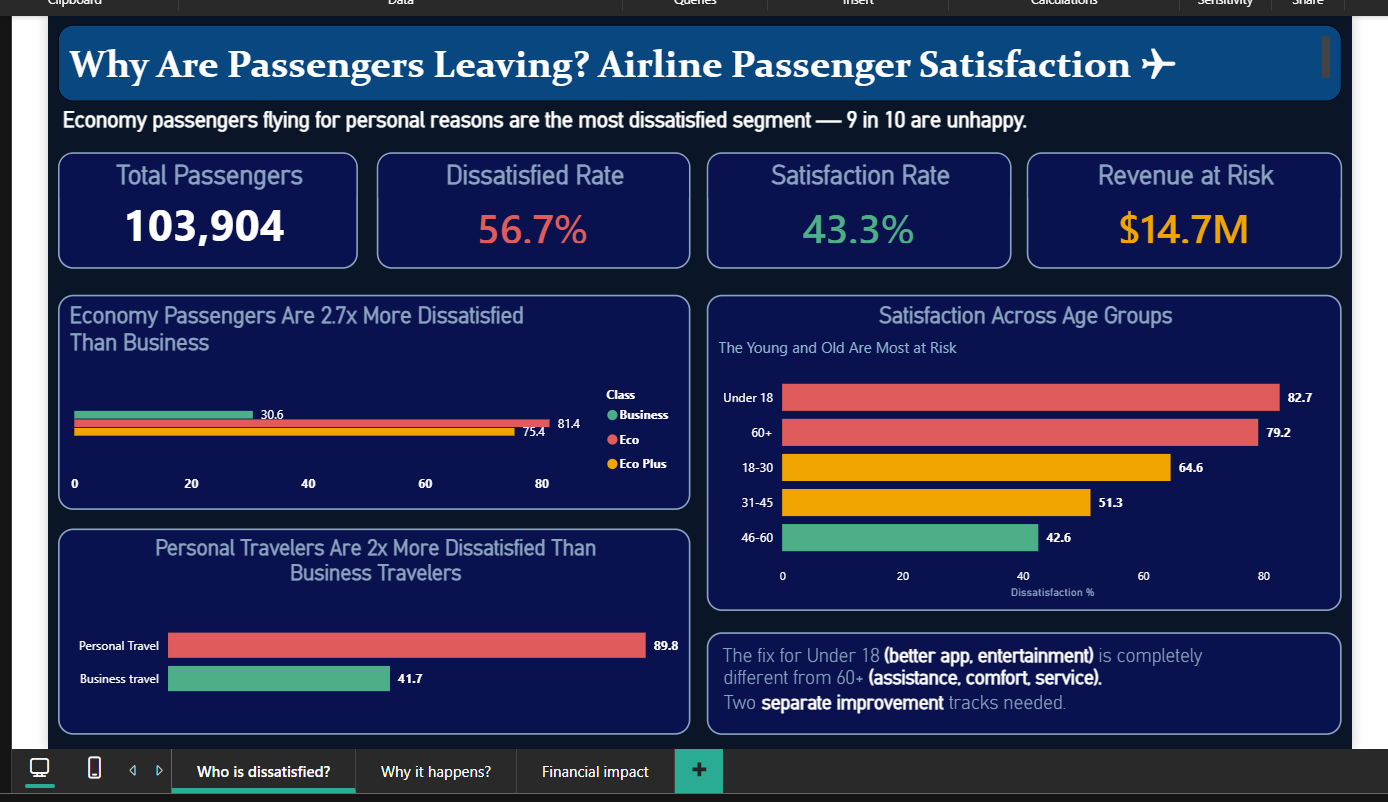

Layout of this report page (visuals, bound fields, positions):
{"tool":"powerbi","page":{"name":"Who is dissatisfied?","canvas":[1280,720],"ordinal":0},"visuals":[{"type":"textbox","box":[9.8,8.6,1260.1,74.8],"z":0},{"type":"cardVisual","title":"Total Passengers","fields":{"Data":["cleaned_data.Total Passengers"]},"box":[9.8,133.7,294.5,114.1],"z":1000},{"type":"clusteredBarChart","title":"Economy Passengers Are 2.7x More Dissatisfied Than Business","fields":{"Series":["cleaned_data.Class"],"Y":["cleaned_data.Dissatisfaction %"]},"box":[9.8,273.6,620.9,211],"z":2000},{"type":"clusteredBarChart","title":"Personal Travelers Are 2x More Dissatisfied     Than Business Travelers","fields":{"Y":["cleaned_data.Dissatisfaction %"],"Category":["cleaned_data.Type of Travel"]},"box":[9.8,503.1,620.9,202.5],"z":3000},{"type":"barChart","title":"Satisfaction Across Age Groups","fields":{"Category":["cleaned_data.age_group"],"Y":["cleaned_data.Dissatisfaction %"]},"box":[646.6,273.6,623.3,310.4],"z":4000},{"type":"cardVisual","title":"Dissatisfied Rate","fields":{"Data":["cleaned_data.Dissatisfaction Rate"]},"box":[322.7,133.7,308,114.1],"z":5000},{"type":"textbox","box":[646.6,604.9,623.3,100.6],"z":6000},{"type":"textbox","box":[9.8,66.3,1260.1,67.5],"z":7000},{"type":"cardVisual","title":"Satisfaction Rate","fields":{"Data":["cleaned_data.Satisfaction Rate"]},"box":[646.6,133.7,299.4,114.1],"z":8000},{"type":"cardVisual","title":"Revenue at Risk","fields":{"Data":["cleaned_data.Revenue at Risk"]},"box":[960.7,133.7,309.2,114.1],"z":9000},{"type":"textbox","box":[68.7,169.3,192.6,92],"z":9001}]}

Visuals, with their boxes on the page's 1280x720 design canvas (x1, y1, x2, y2). These are canvas units, not pixel positions in the 1388x802 screenshot, which may show the page scaled, cropped or inside an application window:
textbox: crop(10, 9, 1270, 83)
"Total Passengers" cardVisual: crop(10, 134, 304, 248)
"Economy Passengers Are 2.7x More Dissatisfied Than Business" clusteredBarChart: crop(10, 274, 631, 485)
"Personal Travelers Are 2x More Dissatisfied     Than Business Travelers" clusteredBarChart: crop(10, 503, 631, 706)
"Satisfaction Across Age Groups" barChart: crop(647, 274, 1270, 584)
"Dissatisfied Rate" cardVisual: crop(323, 134, 631, 248)
textbox: crop(647, 605, 1270, 706)
textbox: crop(10, 66, 1270, 134)
"Satisfaction Rate" cardVisual: crop(647, 134, 946, 248)
"Revenue at Risk" cardVisual: crop(961, 134, 1270, 248)
textbox: crop(69, 169, 261, 261)
